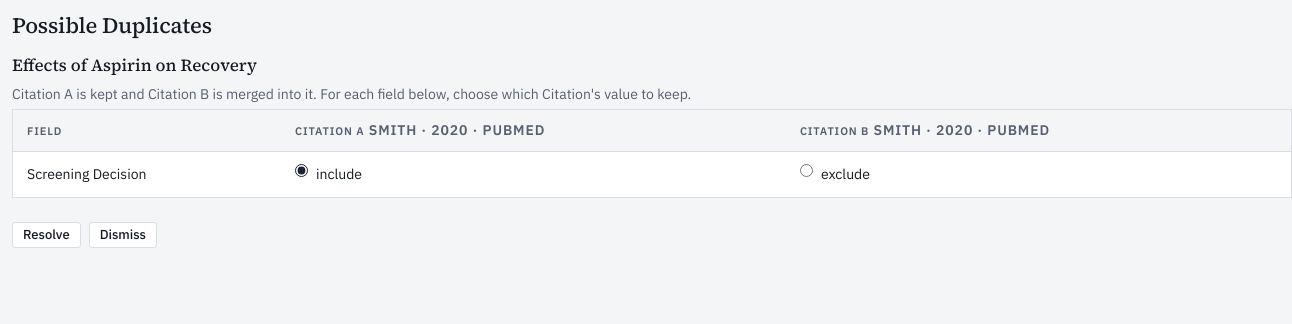
Test case: PossibleDuplicatesPanel › shows an error when resolving fails
Click the button "Resolve" at (46, 235), box [12,222,81,248]
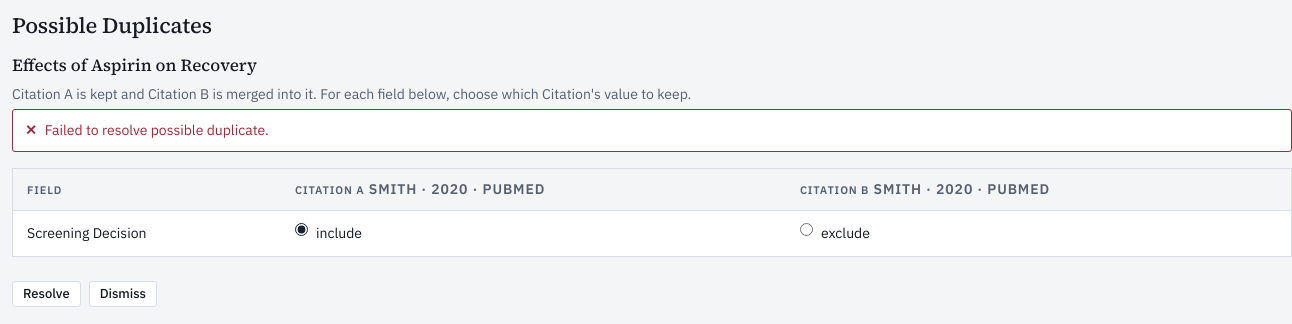
Now the message shows "Failed to resolve", box [45,122,269,140]
